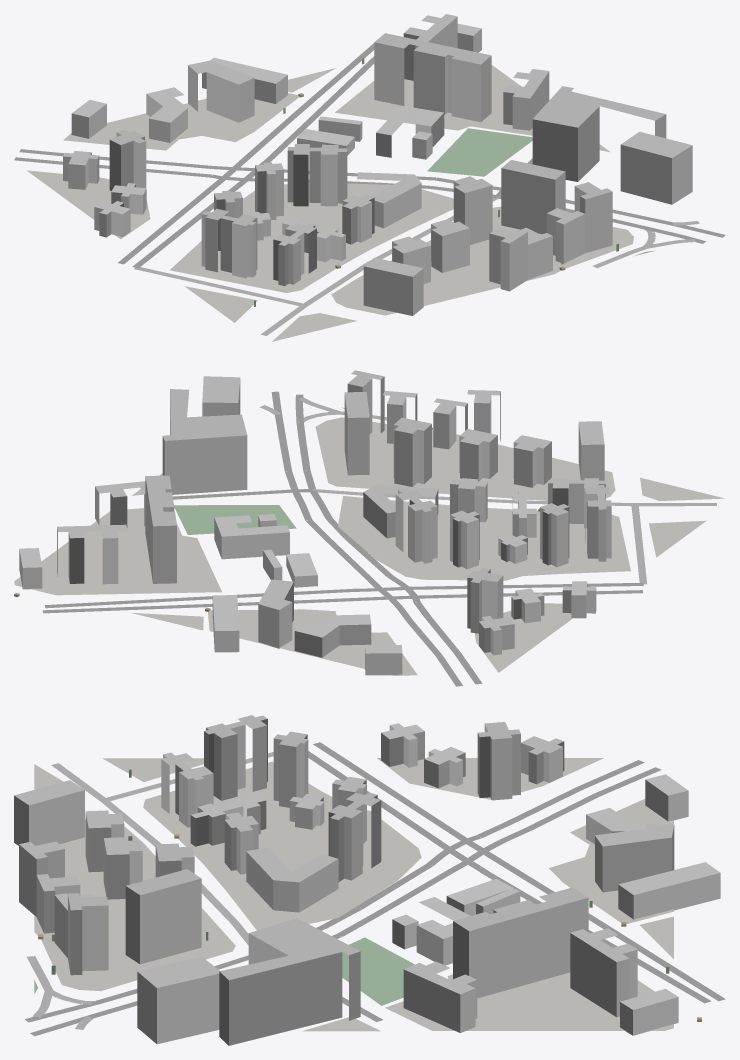
3 views of the same model, one above another, from view 1: azimuth 30°, elevation 25°; view 2: azimuth 150°, elevation 25°; view 3: azimuth 270°, elevation 25° (orthographic). The views are drawn at different scales.
Bounding box in the file's own units: 556 × 63.27 × 557.
